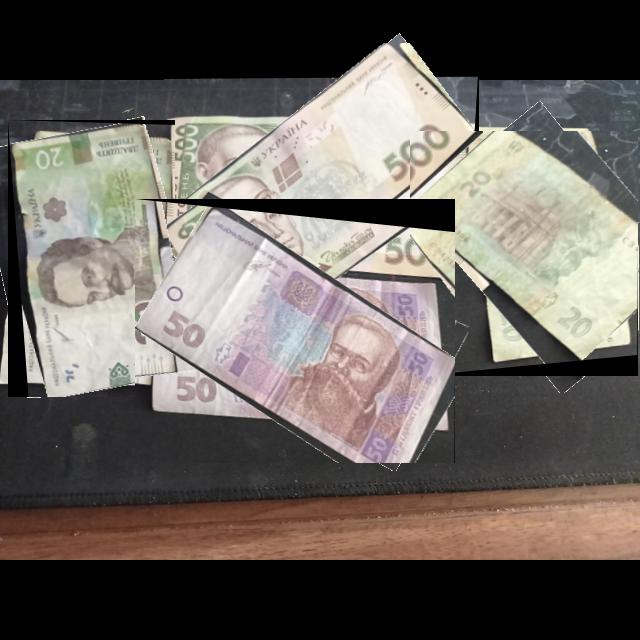20uah: (410, 131, 638, 364), (10, 123, 176, 398)
500uah: (164, 43, 476, 333)
50uah: (135, 206, 456, 464)
